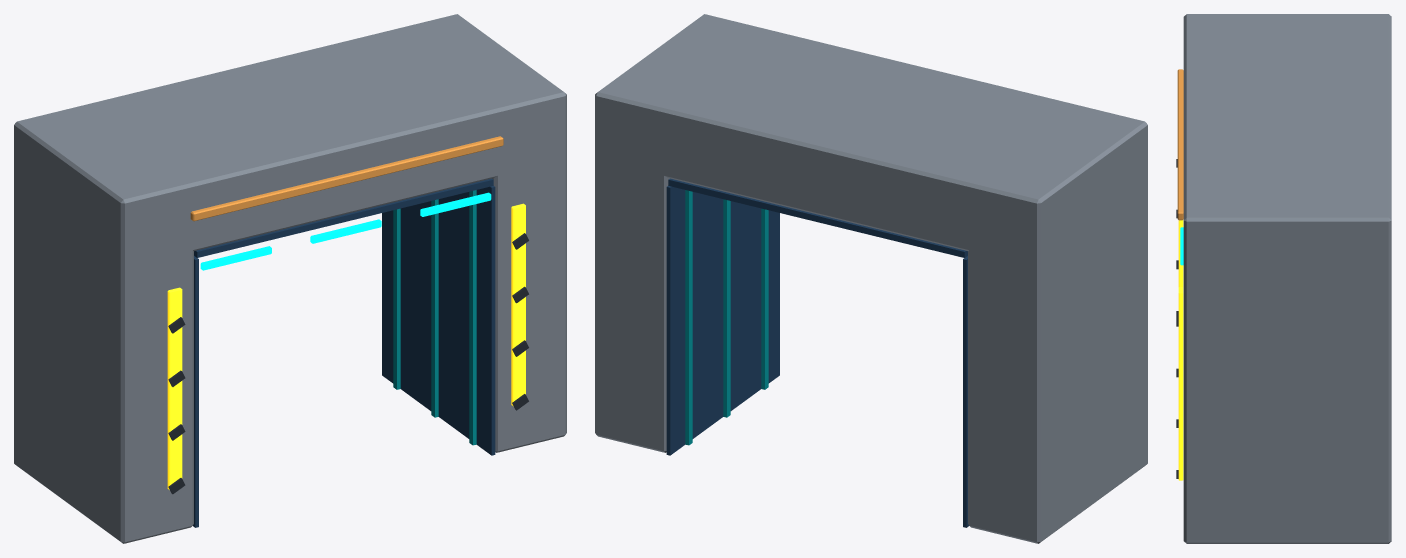
File: tunnel_a.glb
The picture shows the model from 3 angles, left to right: view 1: azimuth 30°, elevation 25°; view 2: azimuth 150°, elevation 25°; view 3: azimuth 270°, elevation 25°; orthographic projection. The views are drawn at different scales.
Parts seen in each view (by area): view 1: Tunnel_Header, Tunnel_LeftWall, Tunnel_InnerLiner_1, Tunnel_RightWall, Tunnel_Accent, Tunnel_Caution_-4.7, Tunnel_Caution_4.7, Tunnel_Ceiling, Tunnel_Rib_1_-1.8, Tunnel_Rib_1_0, Tunnel_Rib_1_1.8, Tunnel_InnerLiner_-1 (+2 smaller); view 2: Tunnel_Header, Tunnel_LeftWall, Tunnel_InnerLiner_1, Tunnel_RightWall, Tunnel_Ceiling, Tunnel_Rib_1_1.8, Tunnel_Rib_1_0, Tunnel_Rib_1_-1.8, Tunnel_InnerLiner_-1; view 3: Tunnel_RightWall, Tunnel_Header, Tunnel_Caution_4.7, Tunnel_Accent, Tunnel_Caution_-4.7.
Part boxes in pixels (x1,y1,x2,y2): Tunnel_Header: (14,14,566,266); Tunnel_LeftWall: (14,163,193,543); Tunnel_InnerLiner_1: (382,186,495,455); Tunnel_RightWall: (492,157,566,452); Tunnel_Accent: (190,136,503,221); Tunnel_Caution_-4.7: (167,287,182,489); Tunnel_Caution_4.7: (511,203,525,406); Tunnel_Ceiling: (194,178,493,257); Tunnel_Rib_1_-1.8: (469,190,476,445); Tunnel_Rib_1_0: (431,199,438,417); Tunnel_Rib_1_1.8: (393,208,400,389); Tunnel_InnerLiner_-1: (193,256,198,527); Tunnel_Header: (595,14,1147,266); Tunnel_LeftWall: (968,163,1147,543); Tunnel_InnerLiner_1: (666,186,779,455); Tunnel_RightWall: (595,133,669,452); Tunnel_Ceiling: (668,178,967,257); Tunnel_Rib_1_1.8: (685,190,692,445); Tunnel_Rib_1_0: (723,199,730,417); Tunnel_Rib_1_-1.8: (761,208,768,389); Tunnel_InnerLiner_-1: (963,256,968,527); Tunnel_RightWall: (1183,257,1391,543); Tunnel_Header: (1183,14,1391,281); Tunnel_Caution_4.7: (1178,287,1183,480); Tunnel_Accent: (1177,69,1183,220); Tunnel_Caution_-4.7: (1178,220,1183,286).
Bounding box in the file's own units: 12.2 × 9 × 5.39.
